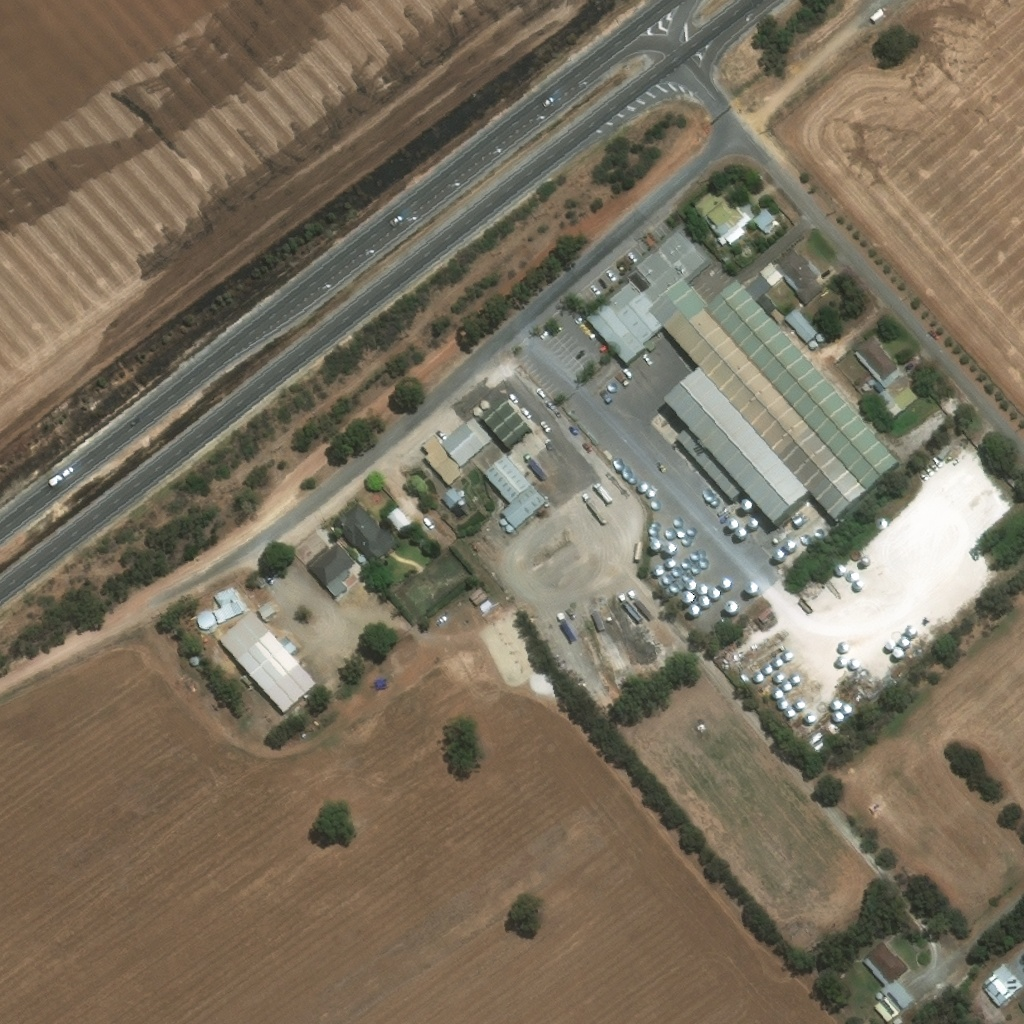0 no-damage: (586, 226, 867, 521), (709, 277, 901, 489), (218, 609, 317, 712), (484, 456, 547, 529), (335, 504, 397, 558), (863, 941, 912, 1009), (306, 539, 357, 598), (774, 248, 823, 306), (480, 394, 532, 446), (853, 335, 900, 388), (441, 418, 493, 465), (421, 434, 464, 485), (980, 965, 1022, 1008), (709, 201, 747, 245), (871, 383, 917, 417), (212, 586, 247, 624), (748, 262, 783, 298), (783, 308, 818, 343), (384, 506, 410, 532), (754, 207, 779, 234), (872, 997, 899, 1022), (441, 487, 461, 509), (256, 601, 276, 620), (196, 611, 215, 630), (255, 577, 267, 589)
4 un-classified: (920, 363, 992, 449), (468, 537, 486, 553), (495, 528, 506, 540)
